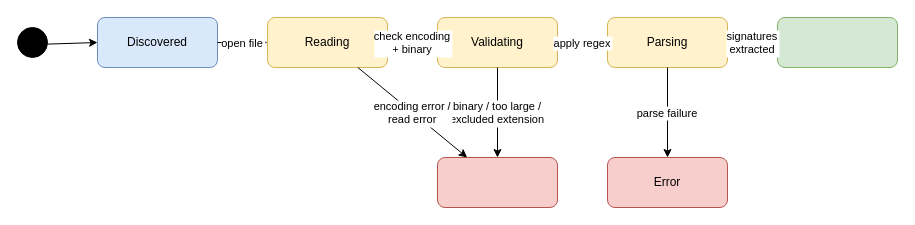
The diagram is 915 pixels wide and 225 high, and some of its shapes have lost their labels. The shapes that lost their labels are listed below. From the top down, each one's centre as x and y in pixels, then its label:
At point 837,42: "Indexed".
At point 497,182: "Skipped".
